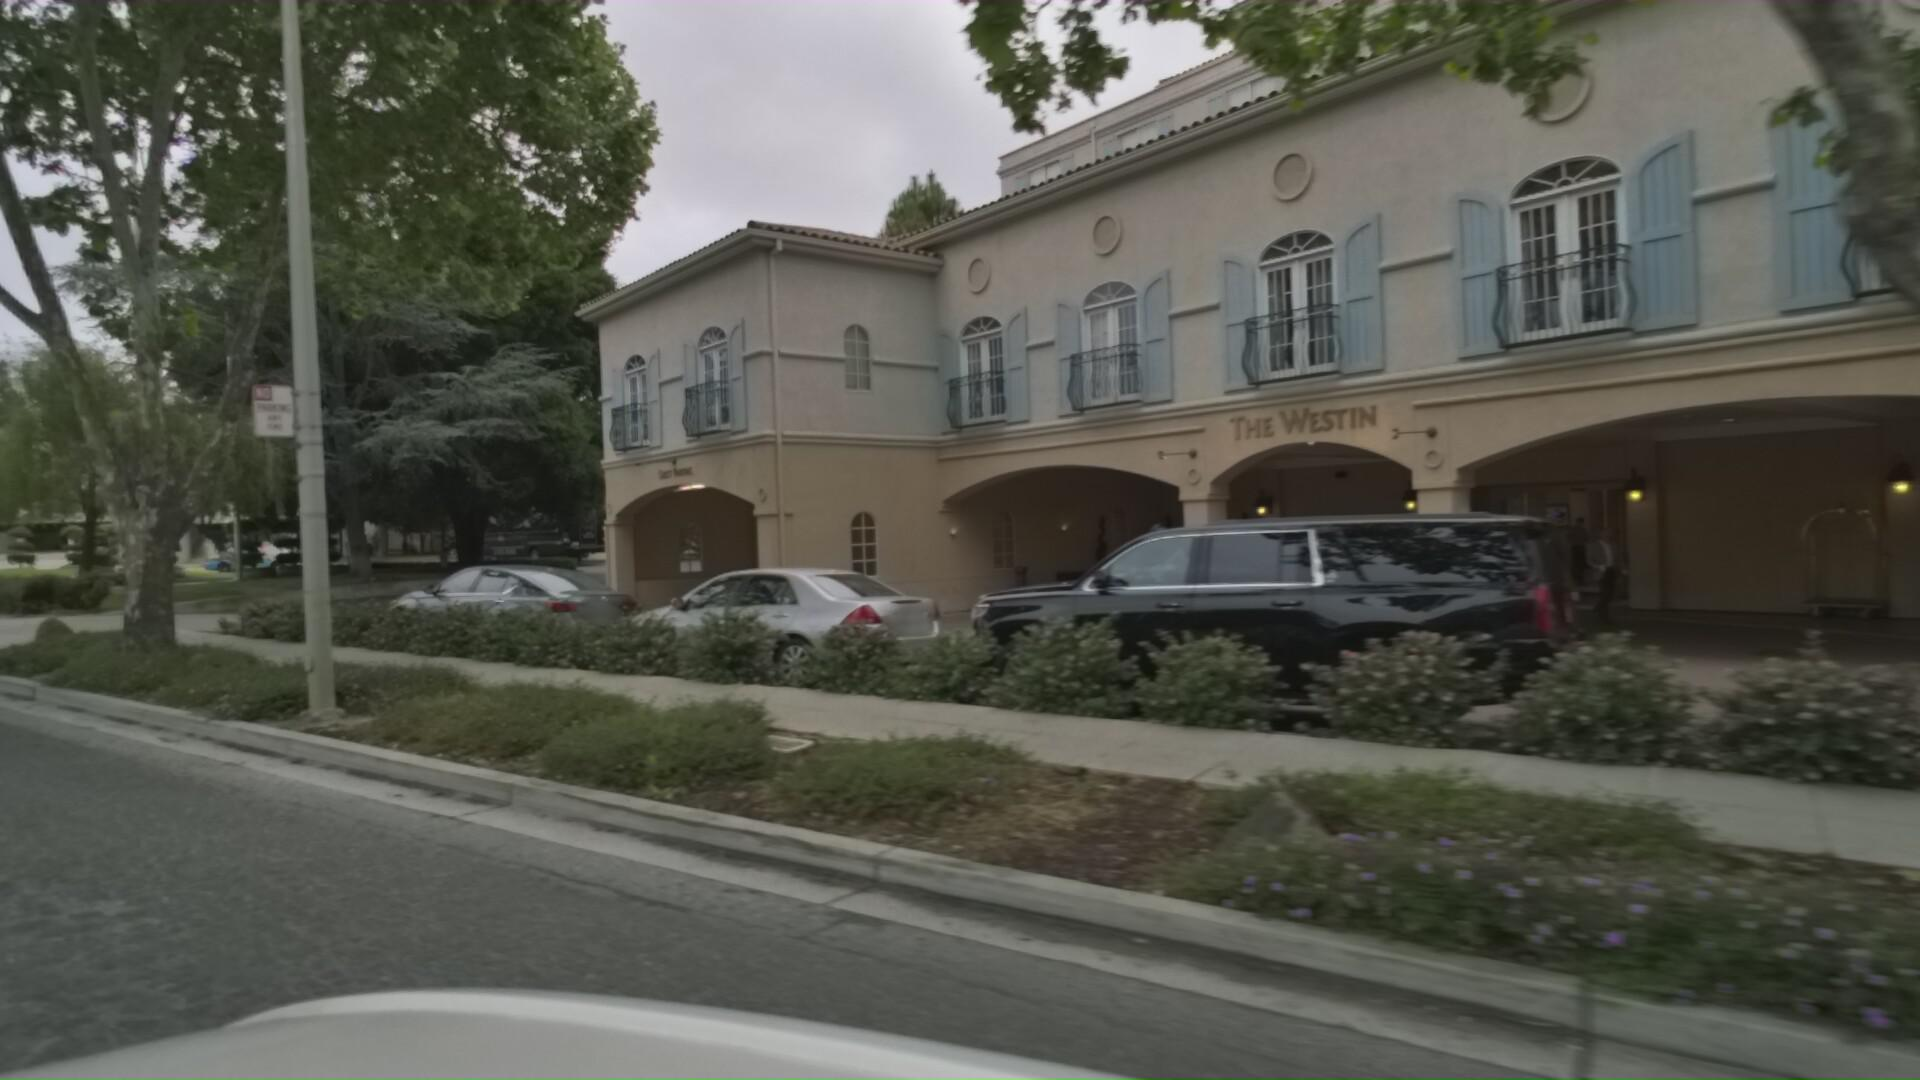bus: (462, 487, 622, 554)
car: (968, 491, 1646, 753), (625, 545, 996, 688), (392, 542, 676, 640), (200, 527, 340, 568)
